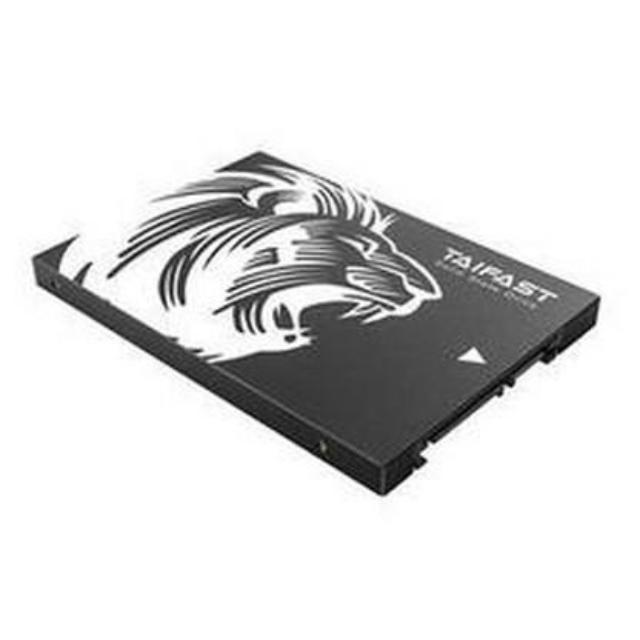DISK: (8, 152, 610, 480)
